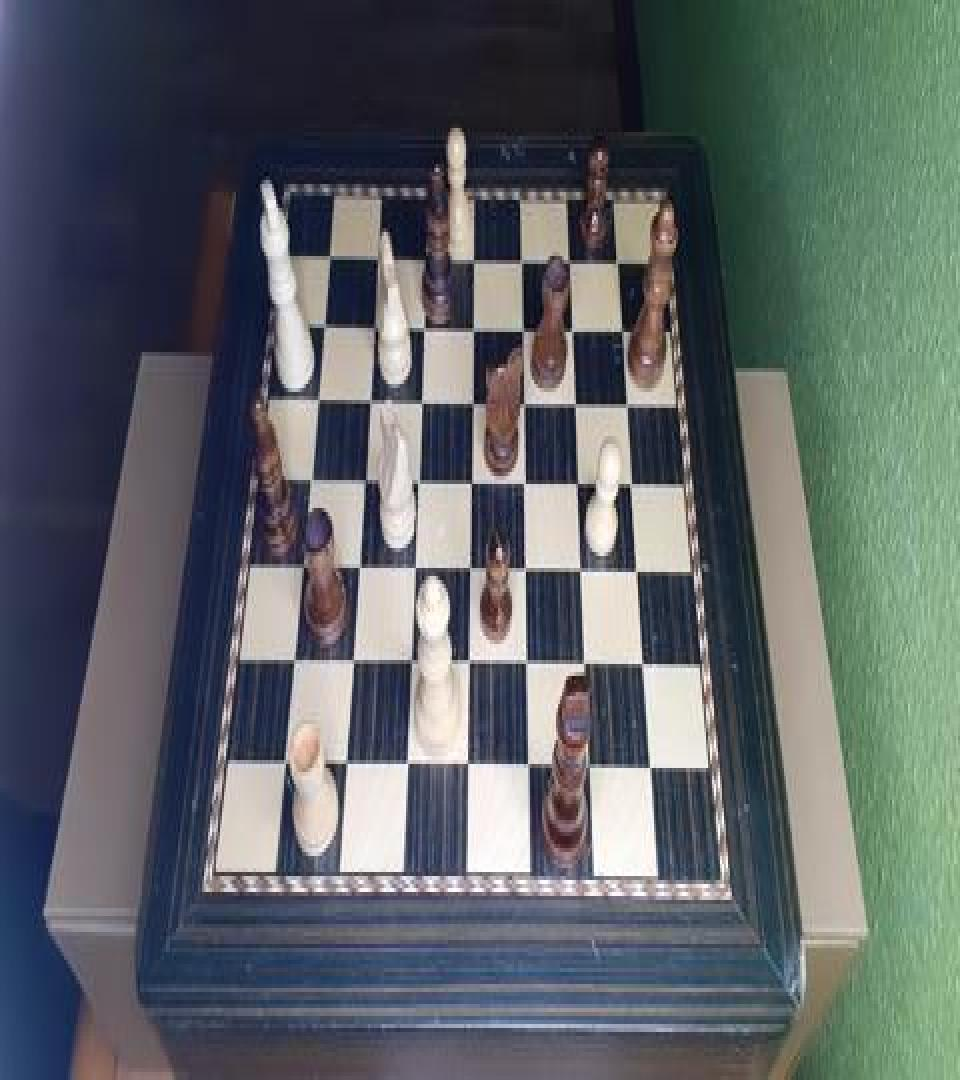xcorner: (615, 246, 629, 274), (566, 246, 580, 274), (518, 244, 532, 272), (469, 244, 483, 272), (420, 244, 434, 272), (371, 244, 385, 272), (322, 244, 336, 272), (620, 316, 634, 344), (569, 314, 583, 342), (518, 314, 532, 342), (468, 314, 482, 342), (417, 314, 431, 342), (367, 314, 381, 342), (316, 312, 330, 340), (624, 390, 638, 418), (572, 390, 586, 418), (519, 390, 533, 418), (467, 388, 481, 416), (414, 388, 428, 416), (362, 388, 376, 416), (309, 388, 323, 416), (629, 472, 643, 500), (575, 470, 589, 498), (520, 470, 534, 498), (466, 470, 480, 498), (411, 470, 425, 498), (356, 470, 370, 498), (302, 468, 316, 496), (635, 558, 649, 586), (578, 558, 592, 586), (521, 558, 535, 586), (464, 558, 478, 586), (407, 556, 421, 584), (351, 556, 365, 584), (294, 556, 308, 584), (641, 654, 655, 682), (581, 654, 595, 682), (522, 652, 536, 680), (463, 652, 477, 680), (404, 652, 418, 680), (344, 652, 358, 680), (285, 652, 299, 680), (647, 758, 661, 786), (585, 756, 599, 784), (523, 756, 537, 784), (461, 756, 475, 784), (399, 756, 413, 784), (337, 756, 351, 784), (275, 754, 289, 782)
